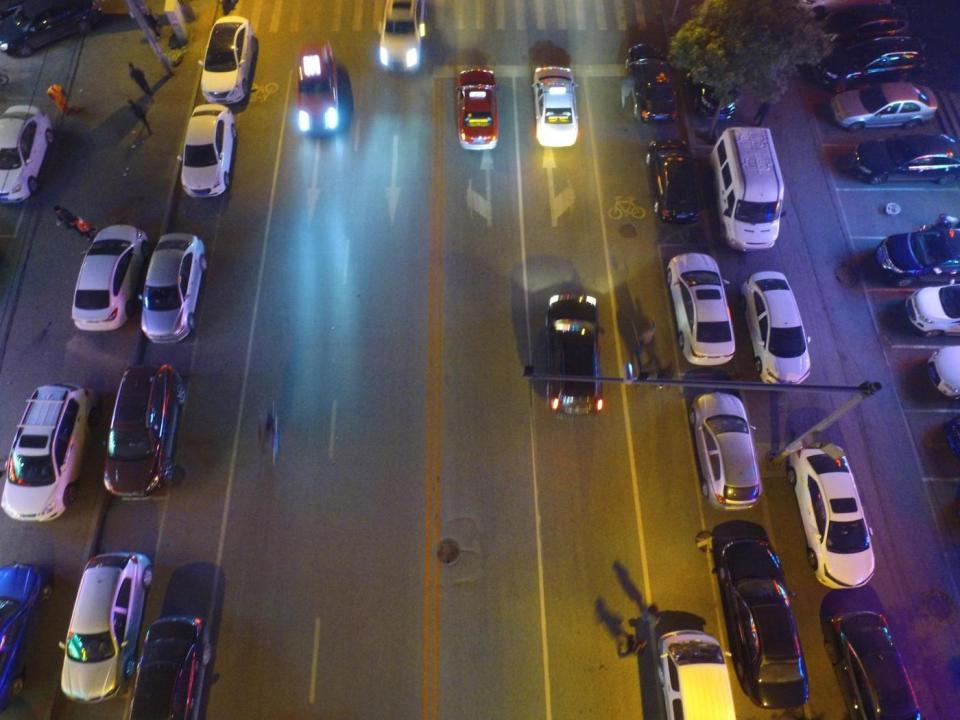car: (708, 519, 808, 708), (59, 552, 154, 704), (0, 384, 99, 522), (788, 440, 876, 588), (820, 611, 927, 720), (108, 364, 182, 498), (735, 271, 813, 387), (125, 616, 209, 718), (690, 392, 762, 510), (663, 253, 735, 367), (0, 563, 53, 713), (73, 224, 148, 329), (139, 232, 209, 344), (545, 291, 602, 413), (847, 132, 960, 184), (0, 1, 101, 56), (175, 103, 234, 195), (825, 38, 928, 90), (833, 83, 942, 132), (0, 105, 52, 206), (799, 6, 911, 52), (877, 226, 960, 288), (201, 13, 255, 106), (645, 138, 704, 222), (293, 41, 343, 140), (626, 44, 678, 124), (690, 42, 738, 122), (534, 67, 580, 147), (382, 0, 428, 75), (458, 66, 499, 150), (906, 284, 960, 338), (925, 346, 960, 400)
van: (709, 126, 783, 253), (656, 630, 735, 720)
